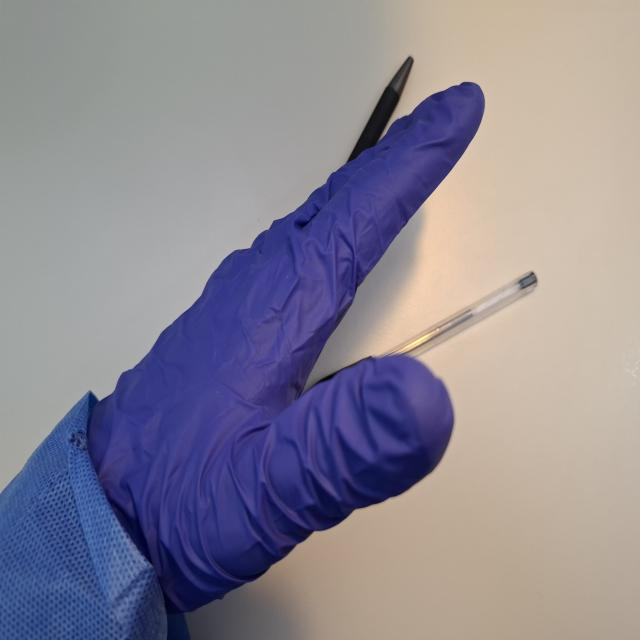glove_on: (83, 77, 488, 616)
